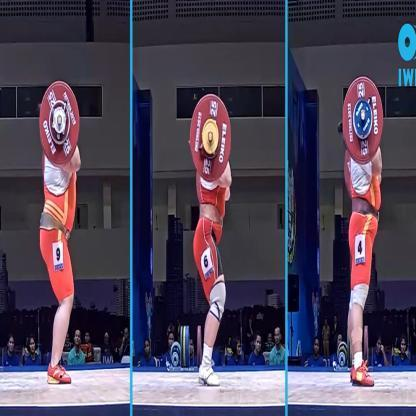barbell: (342, 76, 384, 163), (191, 94, 232, 183), (39, 80, 78, 167)
